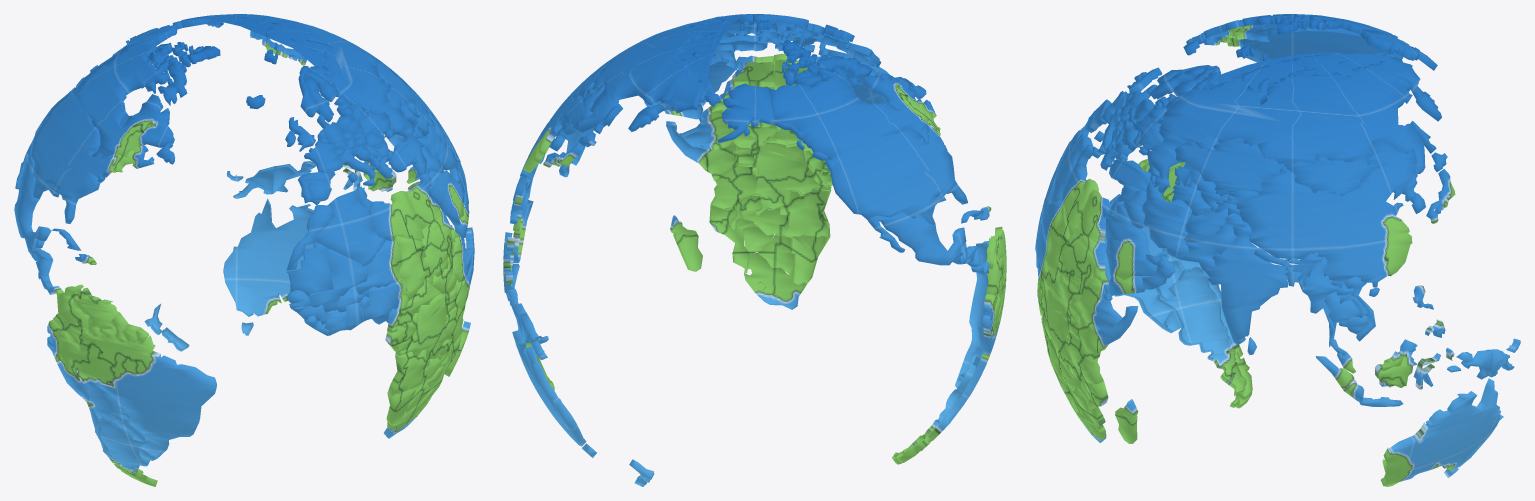
The model's file is globe_land.glb.
3 renders of one model, left to right at view 1: azimuth 30°, elevation 25°; view 2: azimuth 150°, elevation 25°; view 3: azimuth 270°, elevation 25°, orthographic. The views are drawn at different scales.
Parts seen in each view (by area): view 1: gland_classic; view 2: gland_classic; view 3: gland_classic.
Part boxes in pixels (x1,y1,x2,y2): gland_classic: (14, 14, 474, 486); gland_classic: (503, 14, 1006, 486); gland_classic: (1035, 14, 1520, 486).
Size of the model in its own units: 2.02 by 1.86 by 1.92.
1 material, 1 textured.
